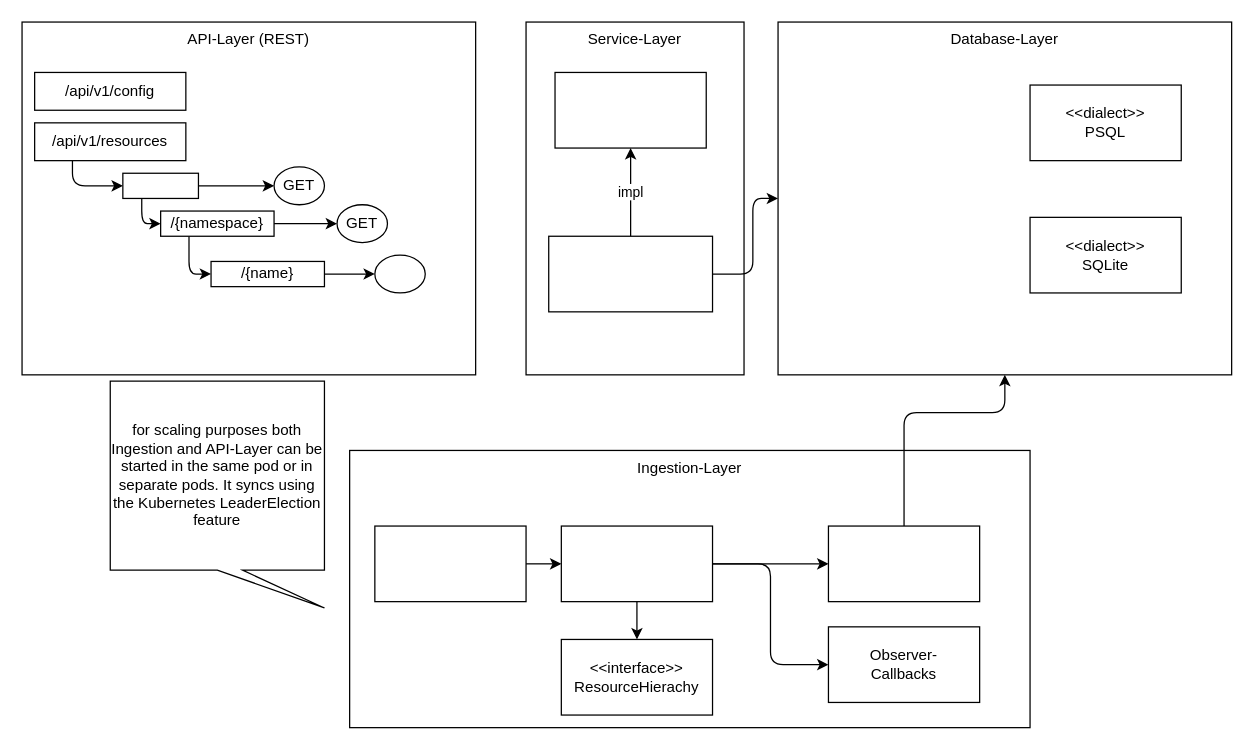
Some shapes in this 1254 by 750 pixel diagram are drawn without their labels. Each missing label, with the centre of its shape:
"/{kind}" goes at point 160,185.
"<<interface>> ResourceService" goes at point 630,109.
"<<struct>> XXX_ResourceService" goes at point 630,273.
"CRUD" goes at point 399,273.
"DB-Writes" goes at point 903,563.
"Kubernetes- Informer" goes at point 450,563.
"Optimize Writes and resolve ownership hierarchy" goes at point 636,563.
